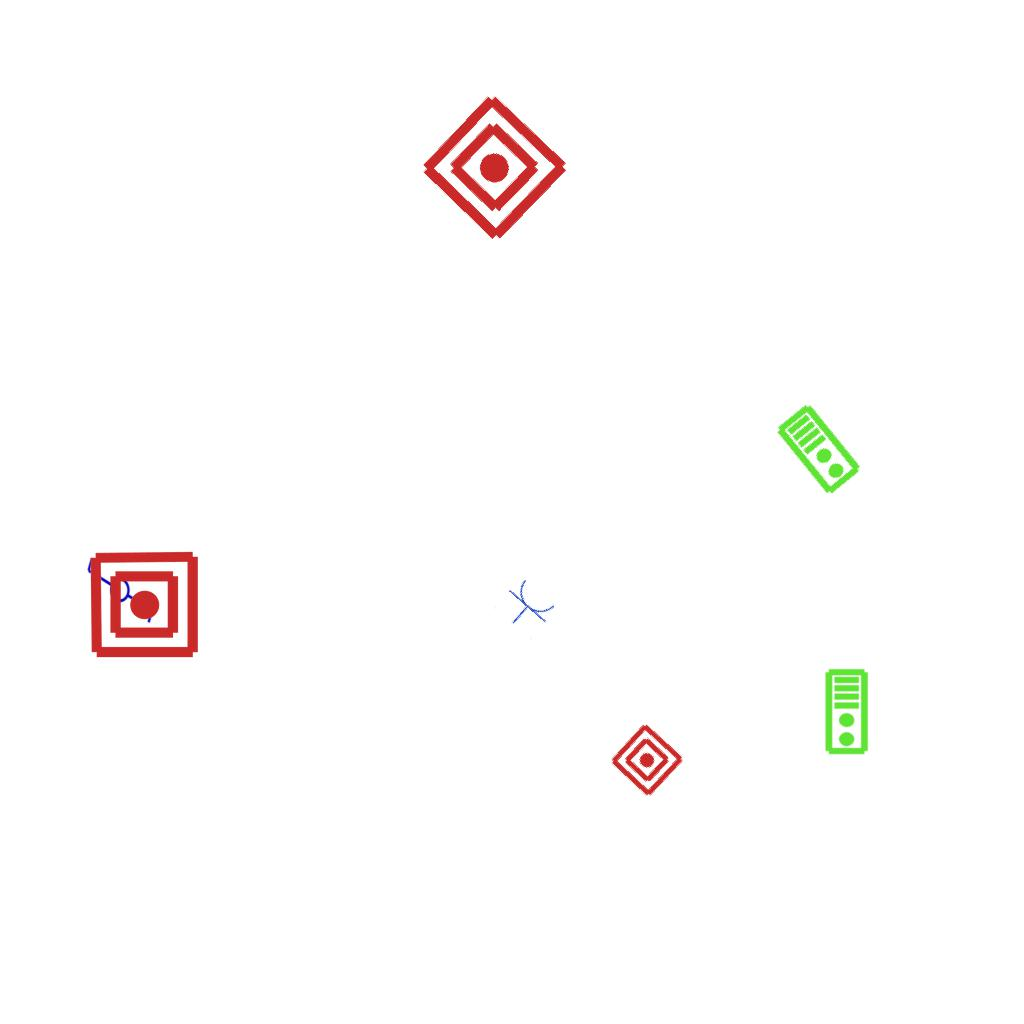Gegensprechanlage_mit_Video: (773, 400, 866, 498), (824, 668, 871, 756)
NAM-Nichtautomatischer_Melder: (414, 87, 575, 248), (88, 548, 201, 661), (607, 720, 687, 800)
Schukosteckdose_einfach: (494, 574, 560, 641)
Wechselschalter: (85, 547, 157, 625)
